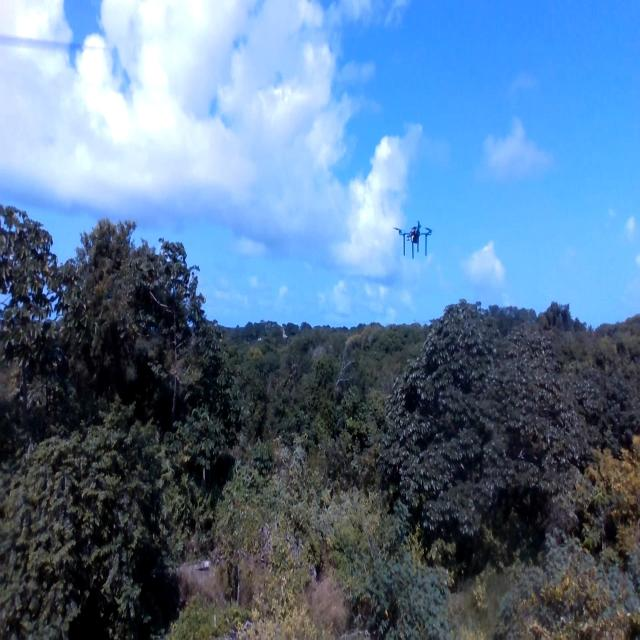-uav-: (381, 192, 447, 276)
